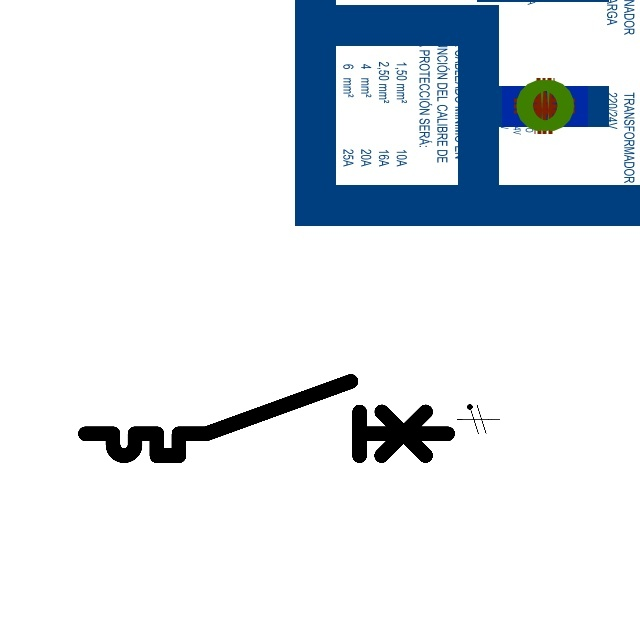interruptor_termomagnetico: (76, 372, 457, 465)
